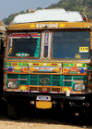truck: (3, 8, 92, 122)
